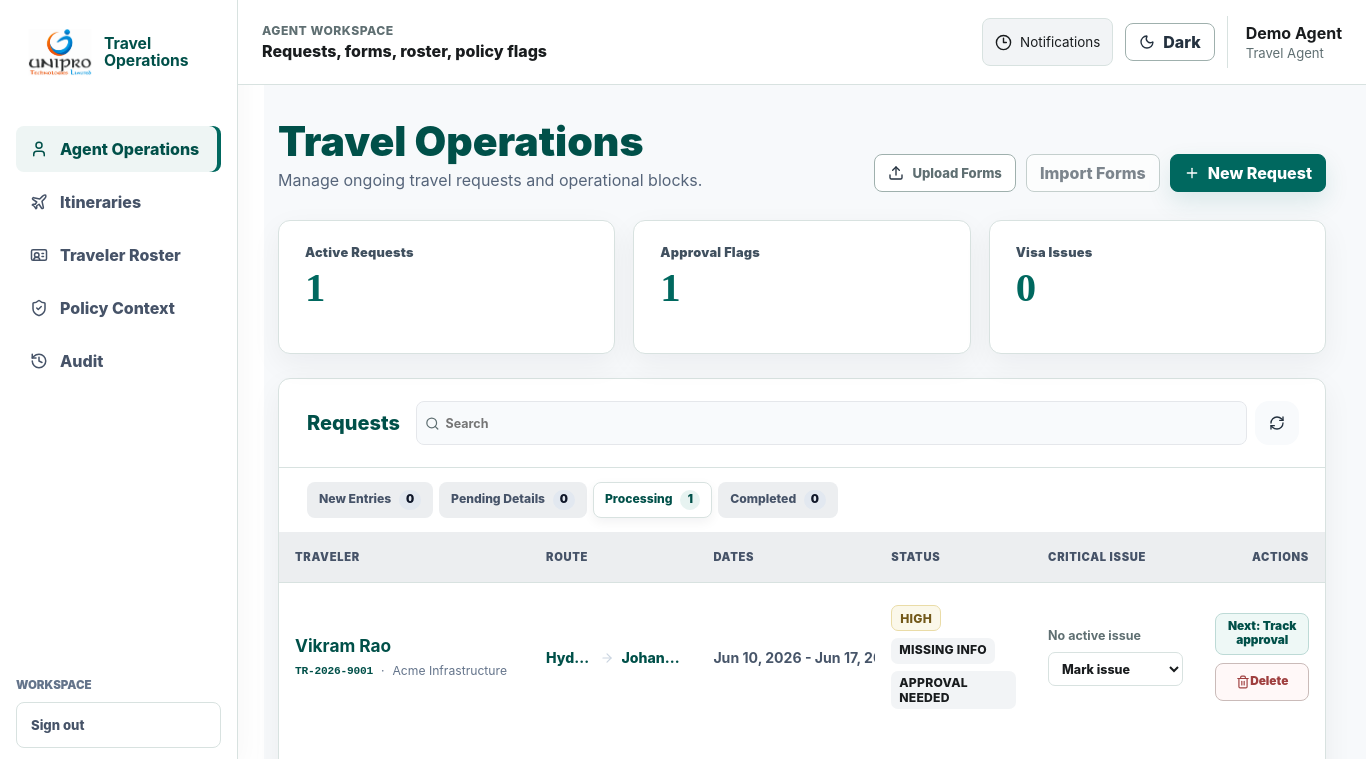
Test: AI Corporate Travel Planning Assistant MVP › separates the request workspace into a focused stepper
This screenshot has width=1366, height=759.
Click the button with aria-label "TR-2026-9001": x=1262, y=634 x1=1216 y1=614 x2=1309 y2=655
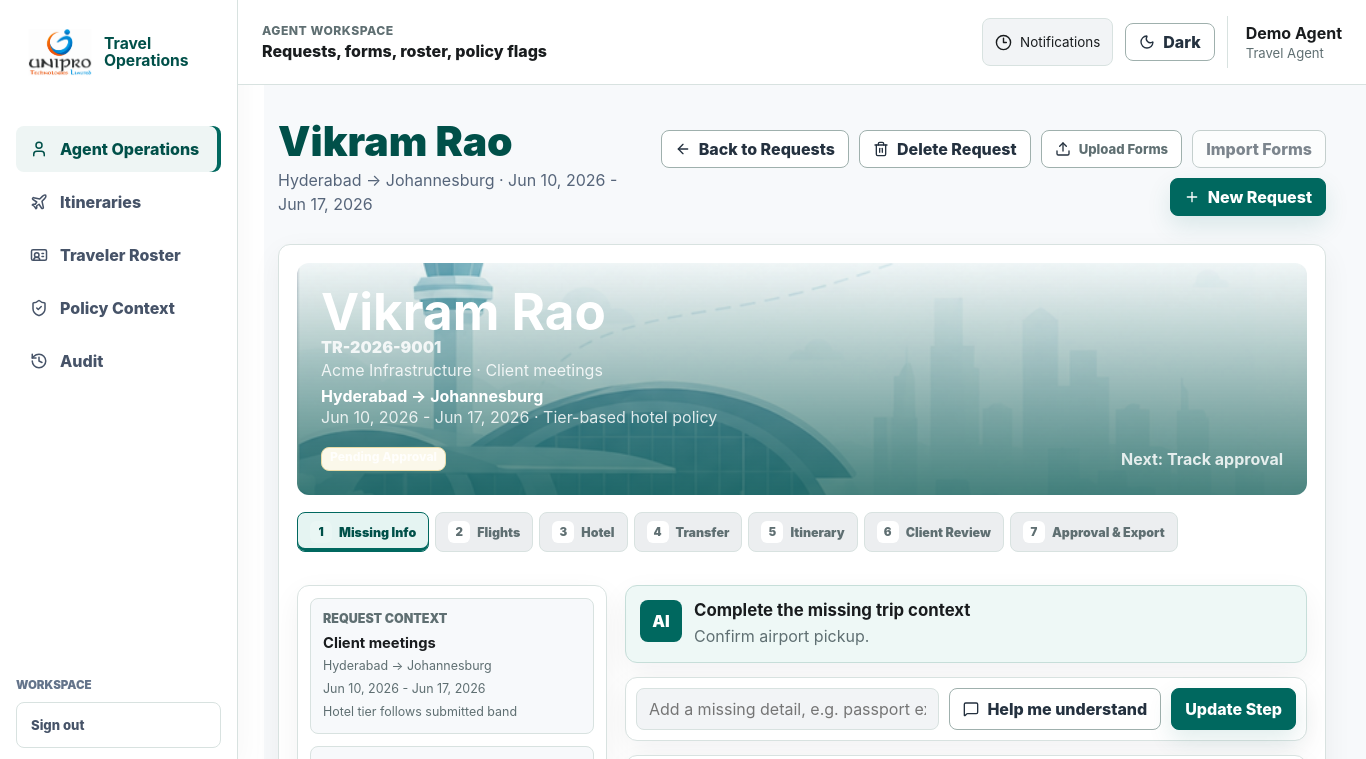
Expected: the button "2 Flights" is shown
Expected: the button "3 Hotel" is shown, x1=539 y1=512 x2=628 y2=552
Expected: the button "5 Itinerary" is shown, x1=748 y1=512 x2=858 y2=552
Click the button "2 Flights": x=484, y=532 x1=435 y1=512 x2=533 y2=552
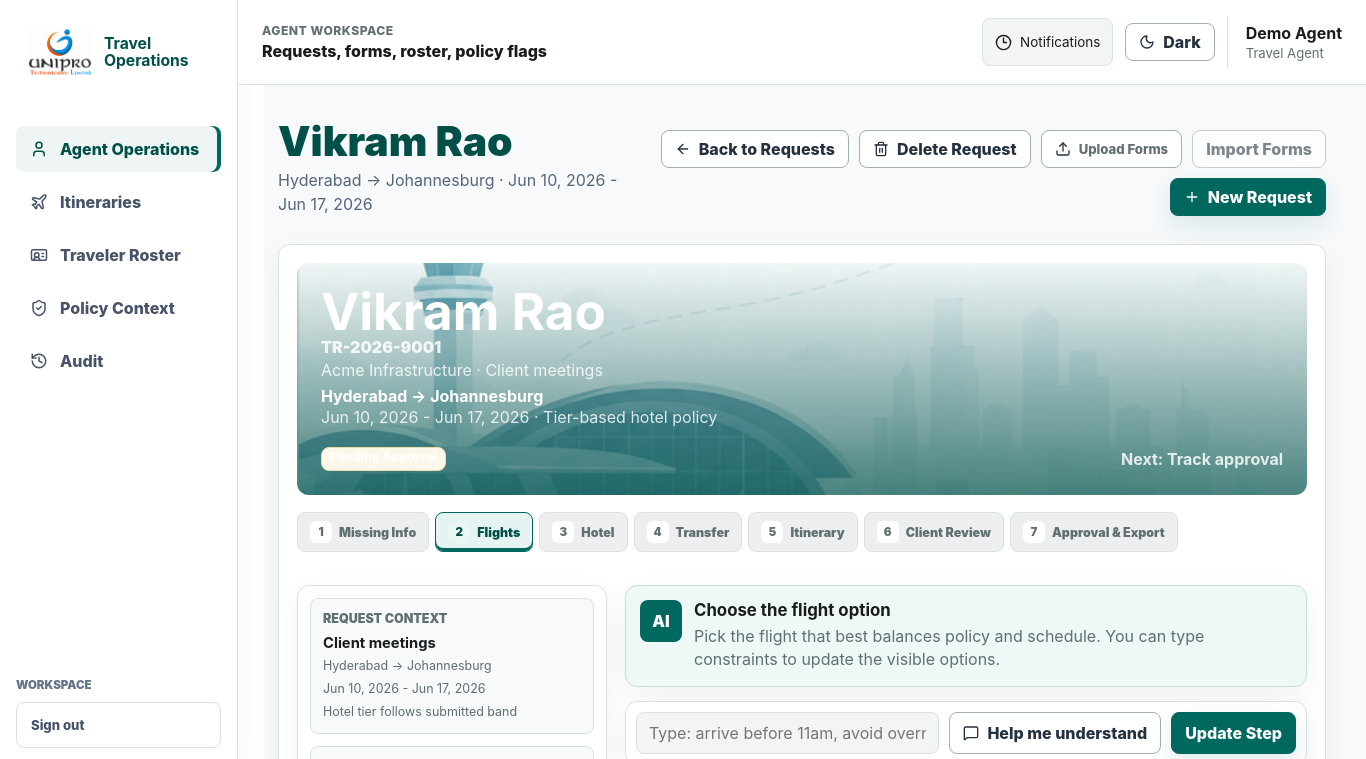
Expected: the field labelled "Approval status" is not shown
Click the button "7 Approval & Export": x=1094, y=532 x1=1010 y1=512 x2=1178 y2=552
(page scrolled)
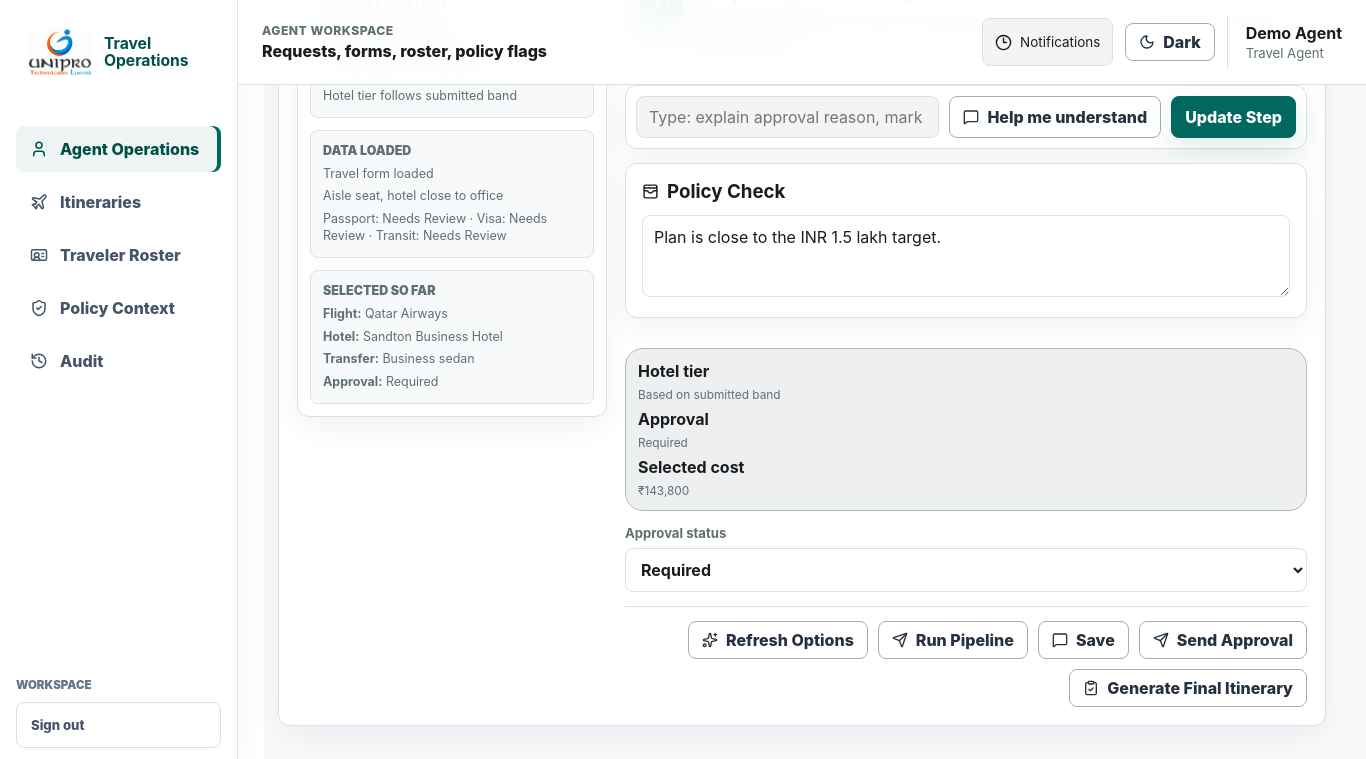
Expected: the dropdown labelled "Approval status" is shown, x1=625 y1=548 x2=1307 y2=592
Expected: the button "Generate Final Itinerary" is shown, x1=1069 y1=669 x2=1307 y2=707
